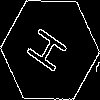H: (25, 25, 76, 80)
